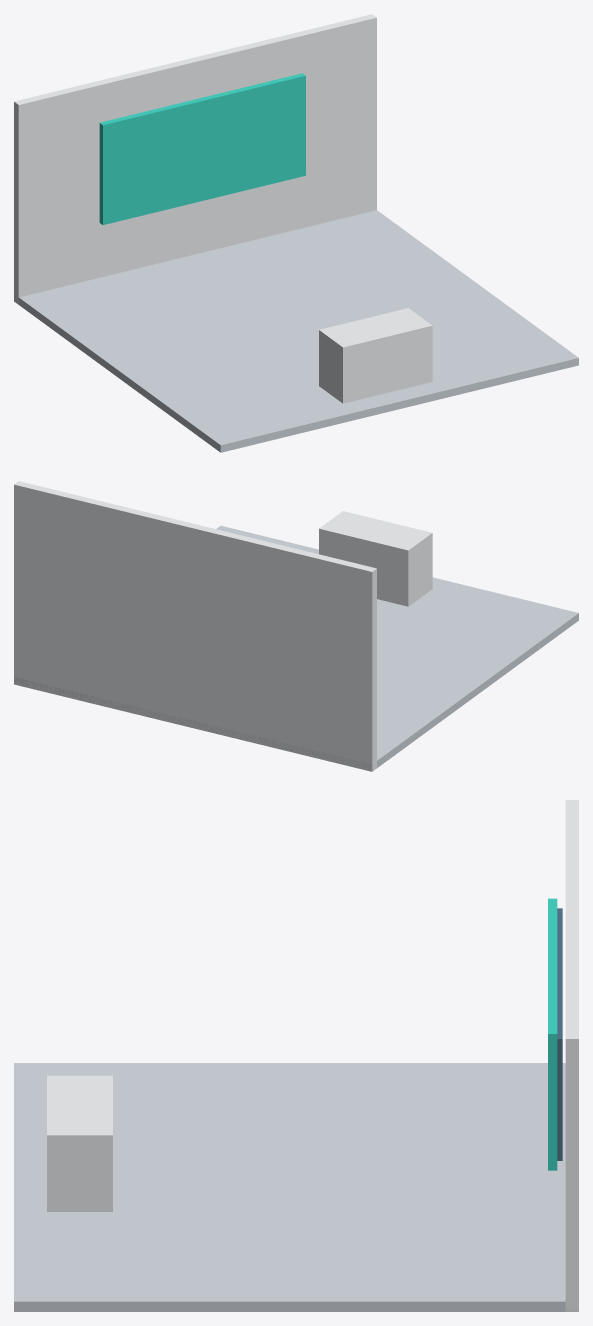
3 renders of one model, top to bottom at view 1: azimuth 30°, elevation 25°; view 2: azimuth 150°, elevation 25°; view 3: azimuth 270°, elevation 25°, orthographic. The views are drawn at different scales.
Parts seen in each view (by area): view 1: Exhibition Booth Concept; view 2: Exhibition Booth Concept; view 3: Exhibition Booth Concept.
Part boxes in pixels (x1=…): Exhibition Booth Concept: x1=14, y1=14, x2=578, y2=452; Exhibition Booth Concept: x1=14, y1=481, x2=578, y2=771; Exhibition Booth Concept: x1=14, y1=800, x2=578, y2=1311.
Size of the model in its own units: 6 by 3.2 by 6.
